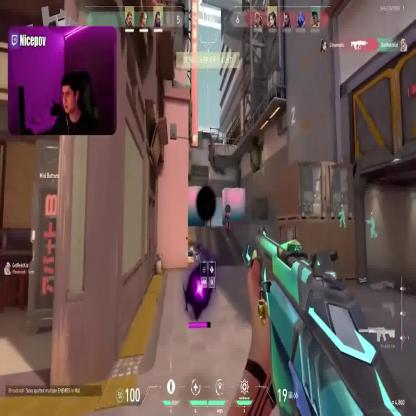enemy: (224, 205, 232, 234)
enemy_head: (226, 205, 231, 214)
